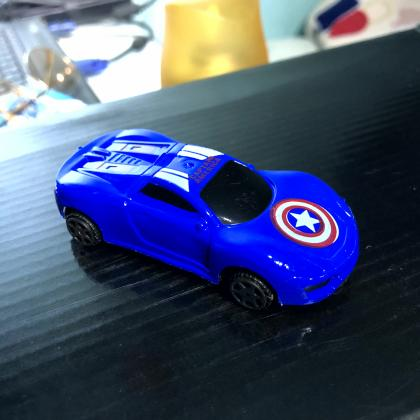Car: (53, 128, 361, 313)
